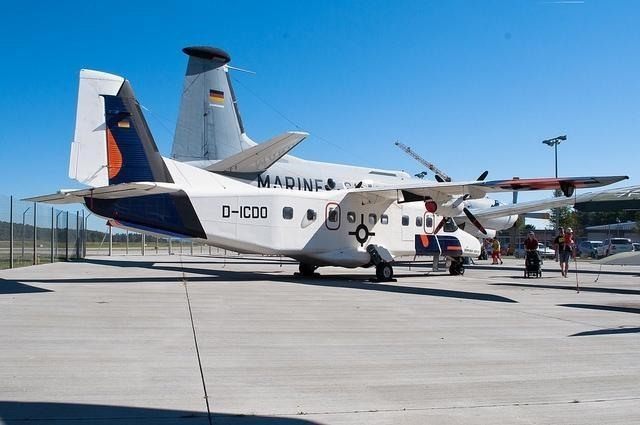car: (594, 238, 634, 258), (513, 242, 555, 260), (578, 241, 602, 259)
